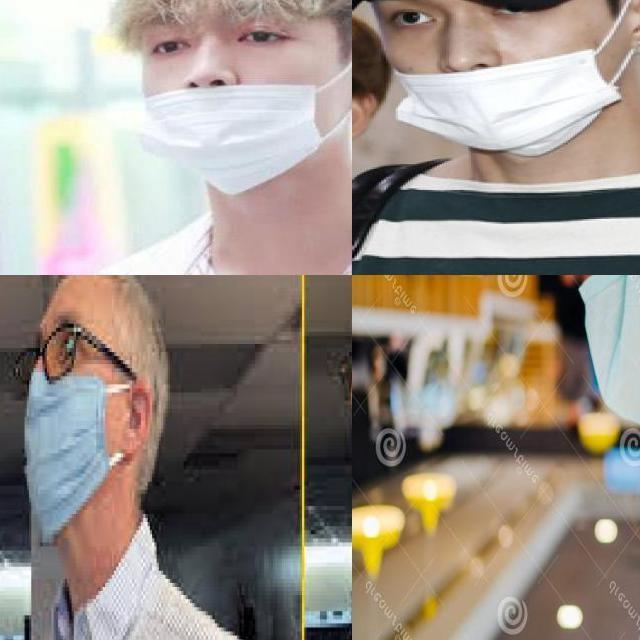hairnet: (143, 46, 347, 184), (388, 36, 607, 145)
